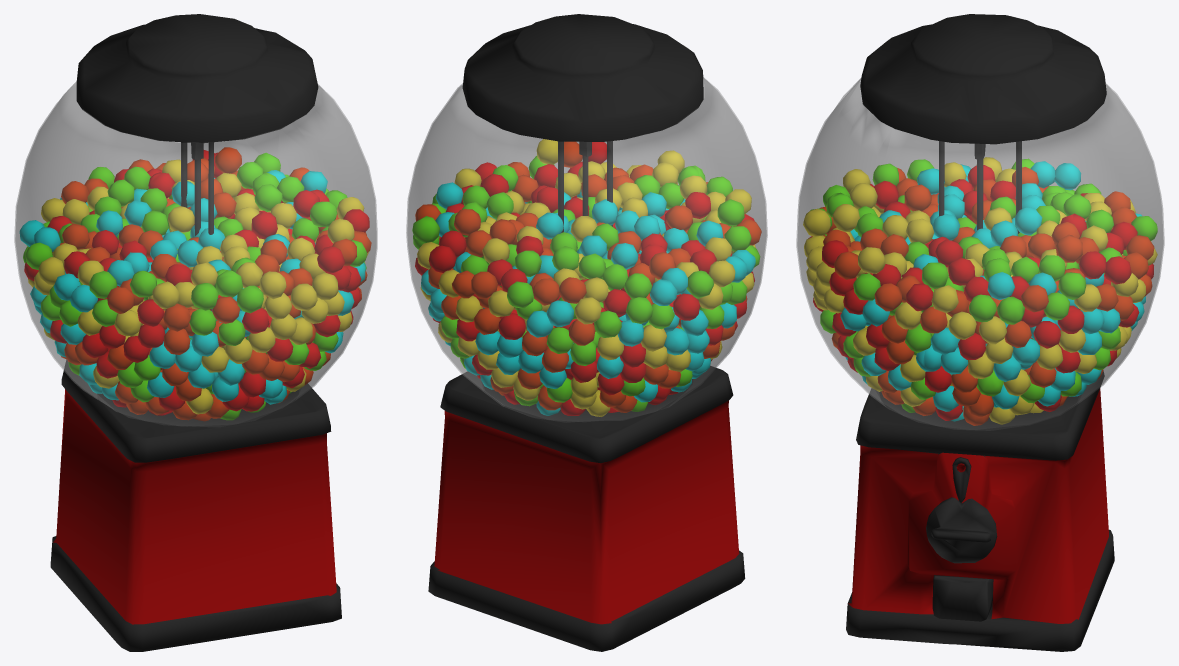
The model's file is machine gum.FBX.
3 views of the same model, side by side, from view 1: azimuth 30°, elevation 25°; view 2: azimuth 150°, elevation 25°; view 3: azimuth 270°, elevation 25° (orthographic).
Visible parts, largest first — view 1: machine gum; view 2: machine gum; view 3: machine gum.
Boxes of the visible parts, <box> form: machine gum: <box>14,14,377,651</box>; machine gum: <box>406,14,767,651</box>; machine gum: <box>796,14,1164,651</box>.
Size of the model in its own units: 320 by 320 by 535.
